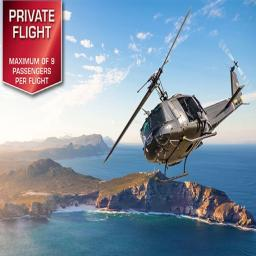helicopter: (103, 5, 253, 189)
